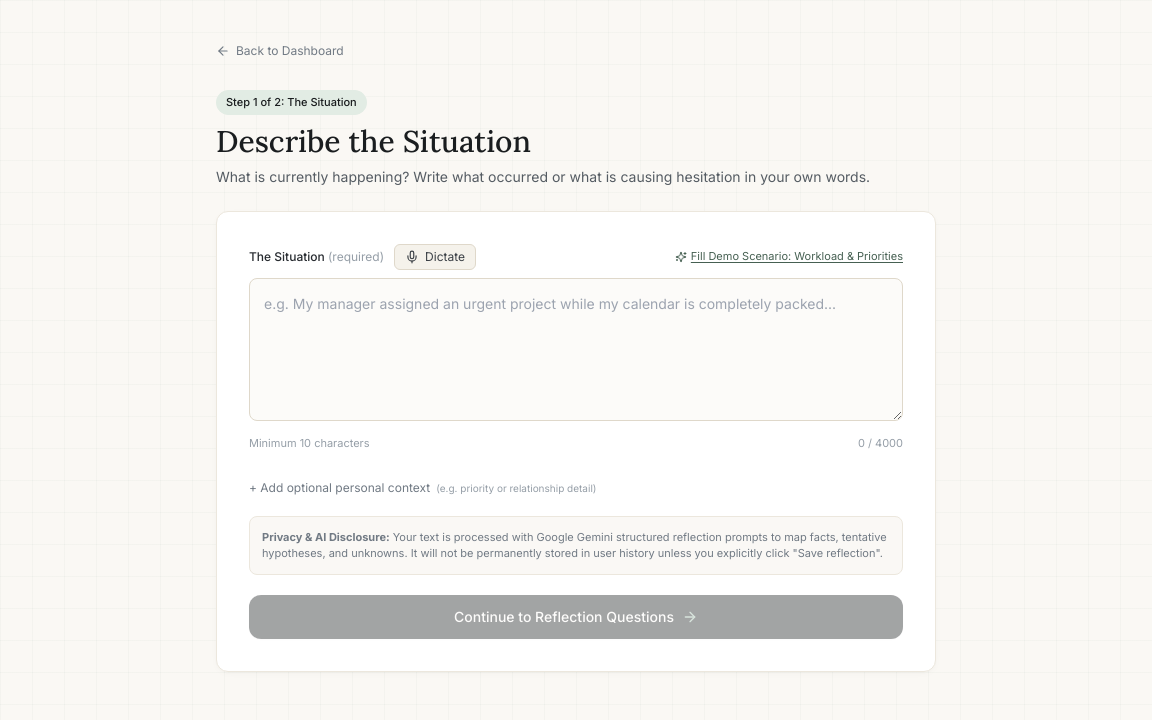
Test: SituationEntryPage — Speech-to-Text Dictation › handles microphone permission denial (not-allowed) gracefully and resets recording state
Click the button with aria-label "Dictate situation with microphone" at {"x": 435, "y": 256}, box [394, 244, 476, 270]
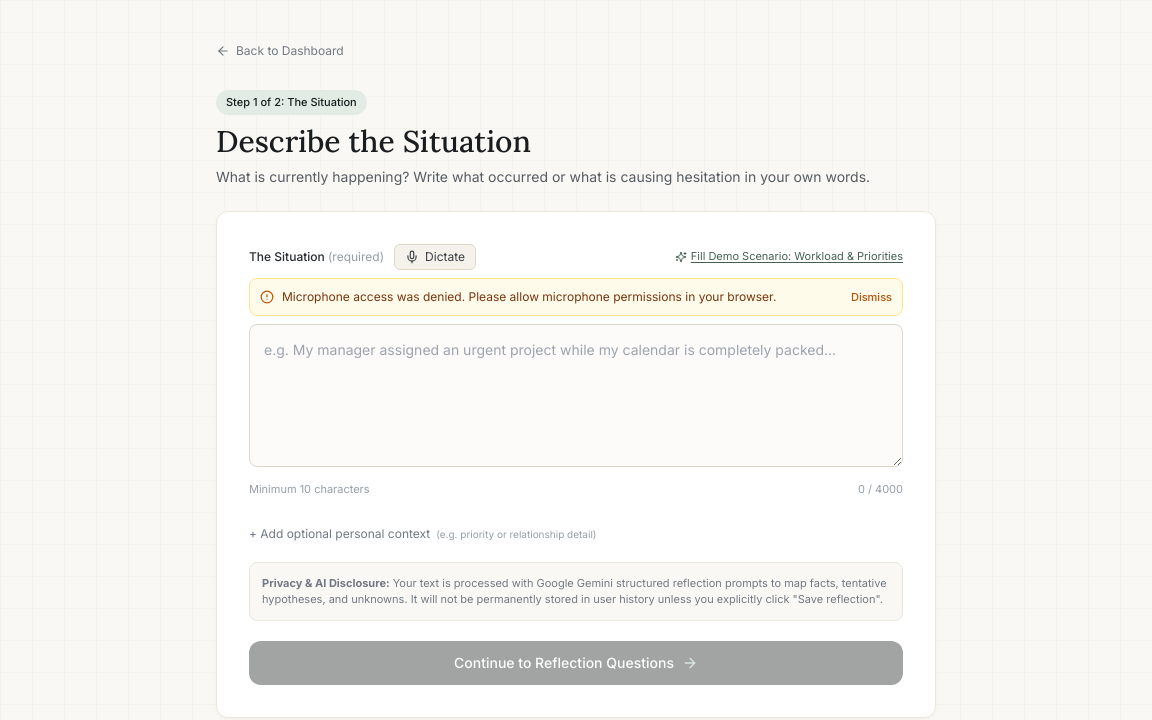
expect the text "Microphone access was denied. Please allow microphone permissions in your browser." is shown: met, box [282, 288, 776, 304]
